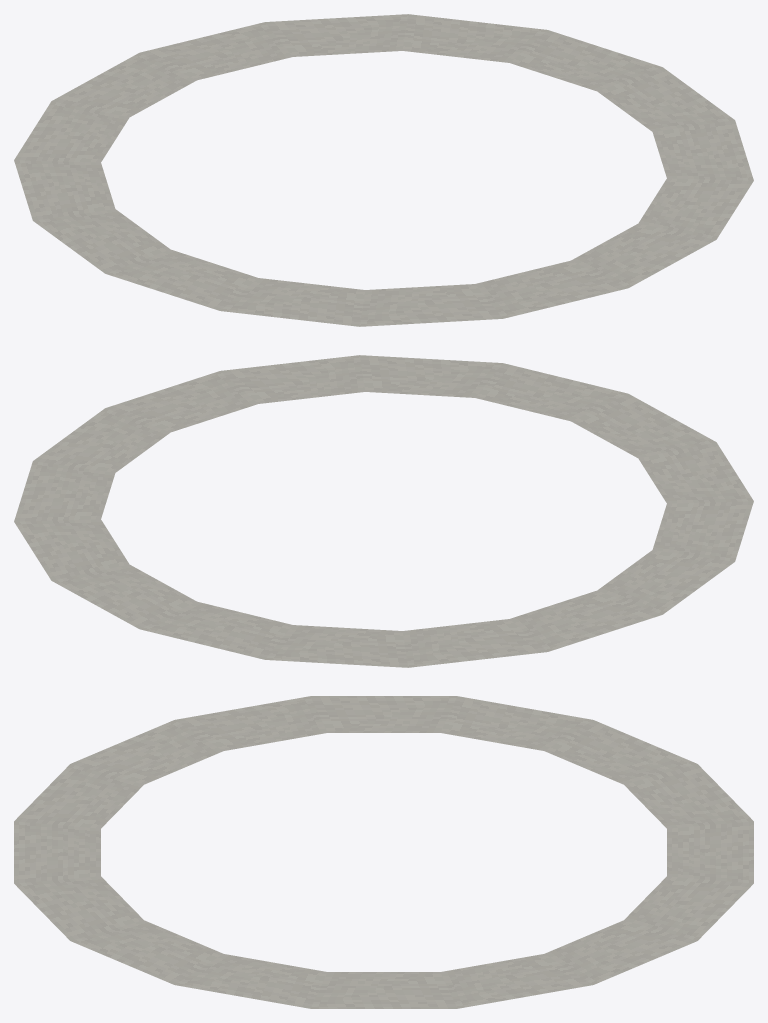
File: mh_ring_top.obj
The picture shows the model from 3 angles, top to bottom: view 1: azimuth 30°, elevation 25°; view 2: azimuth 150°, elevation 25°; view 3: azimuth 270°, elevation 25°; orthographic projection.
Parts seen in each view (by area): view 1: mh_ring_top; view 2: mh_ring_top; view 3: mh_ring_top.
Part boxes in pixels (x1=…): mh_ring_top: x1=14, y1=14, x2=753, y2=326; mh_ring_top: x1=14, y1=355, x2=753, y2=667; mh_ring_top: x1=14, y1=696, x2=753, y2=1008.
Bounding box in the file's own units: 0.9808 × 0 × 0.9808.
